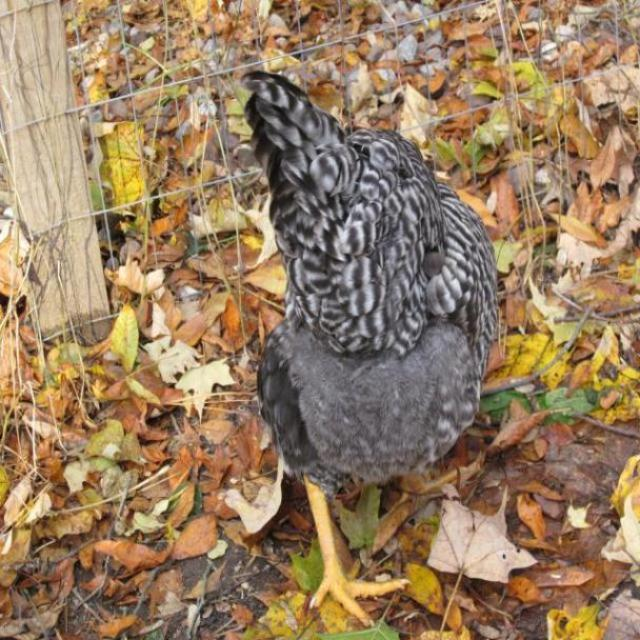Chicken: (246, 71, 498, 621)
